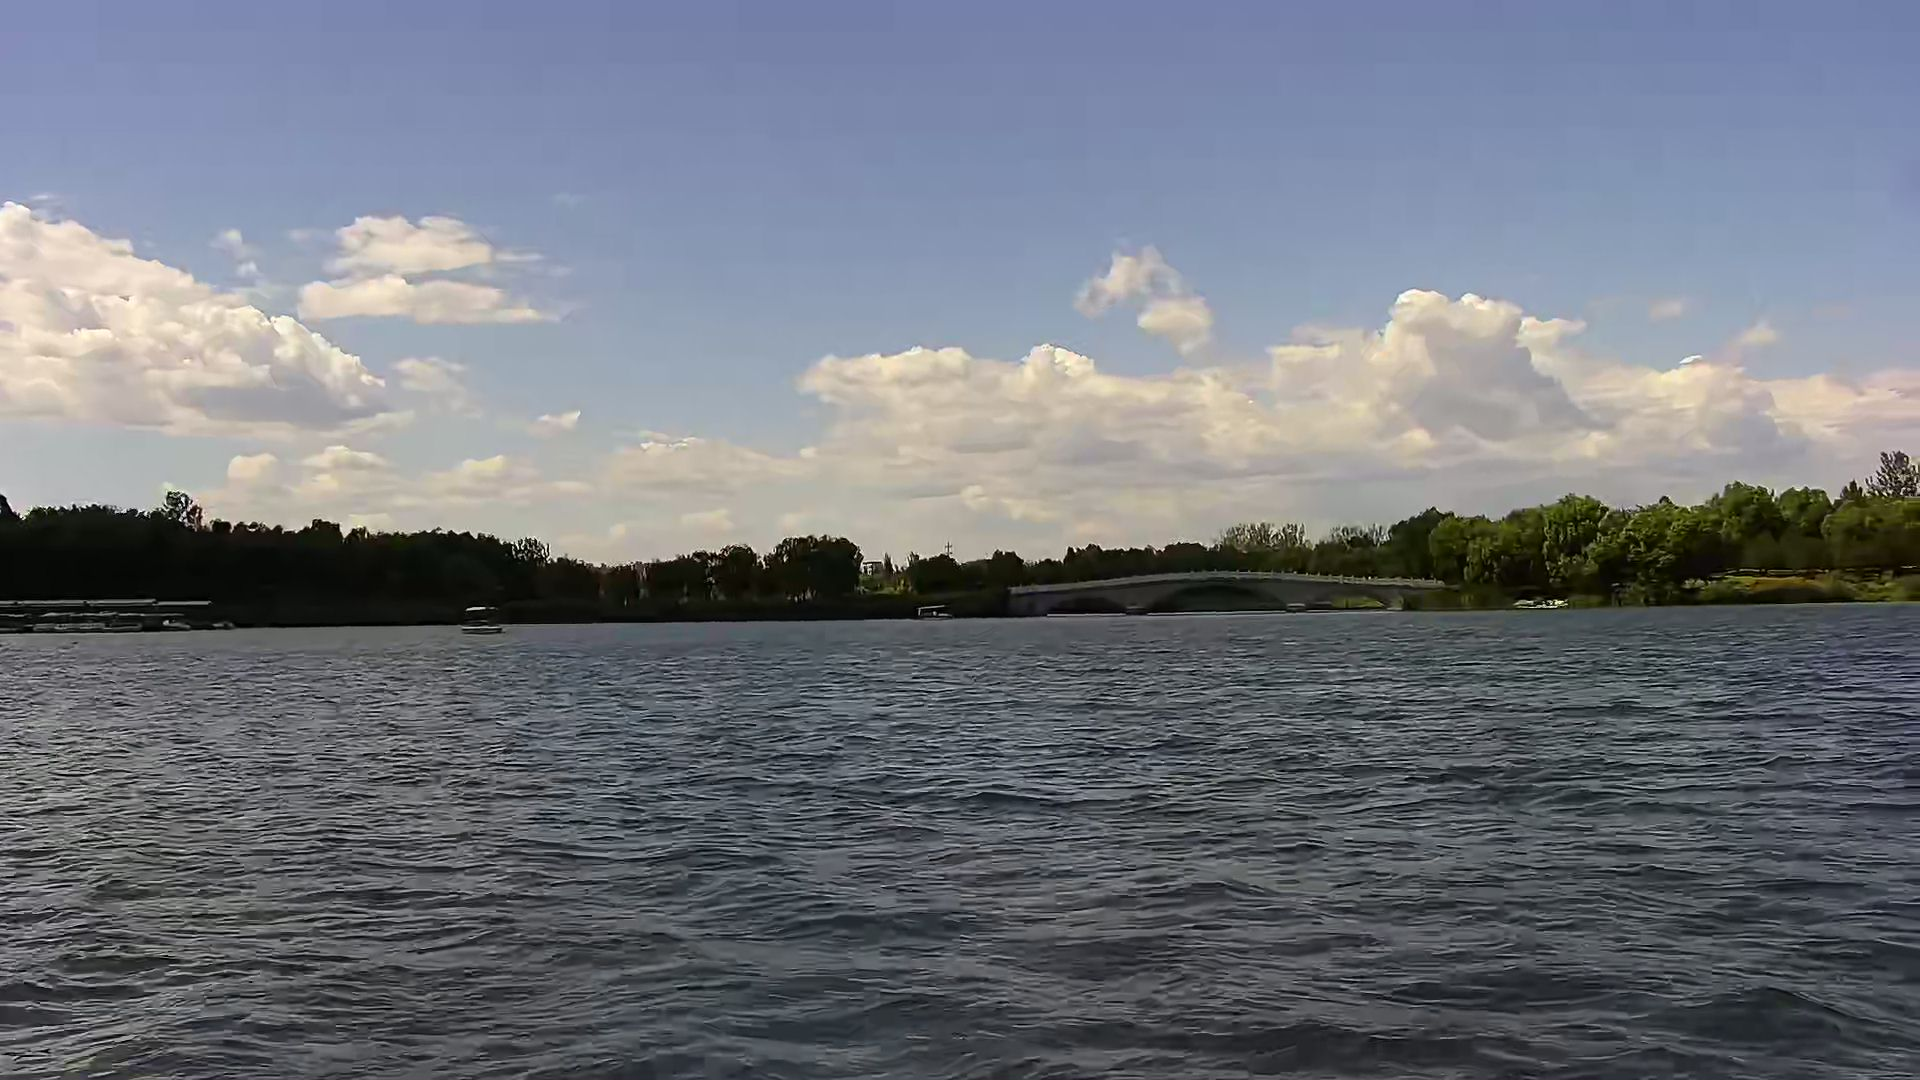boat: (455, 597, 512, 640)
bridge: (1010, 567, 1448, 621)
harbor: (1, 593, 237, 636)
